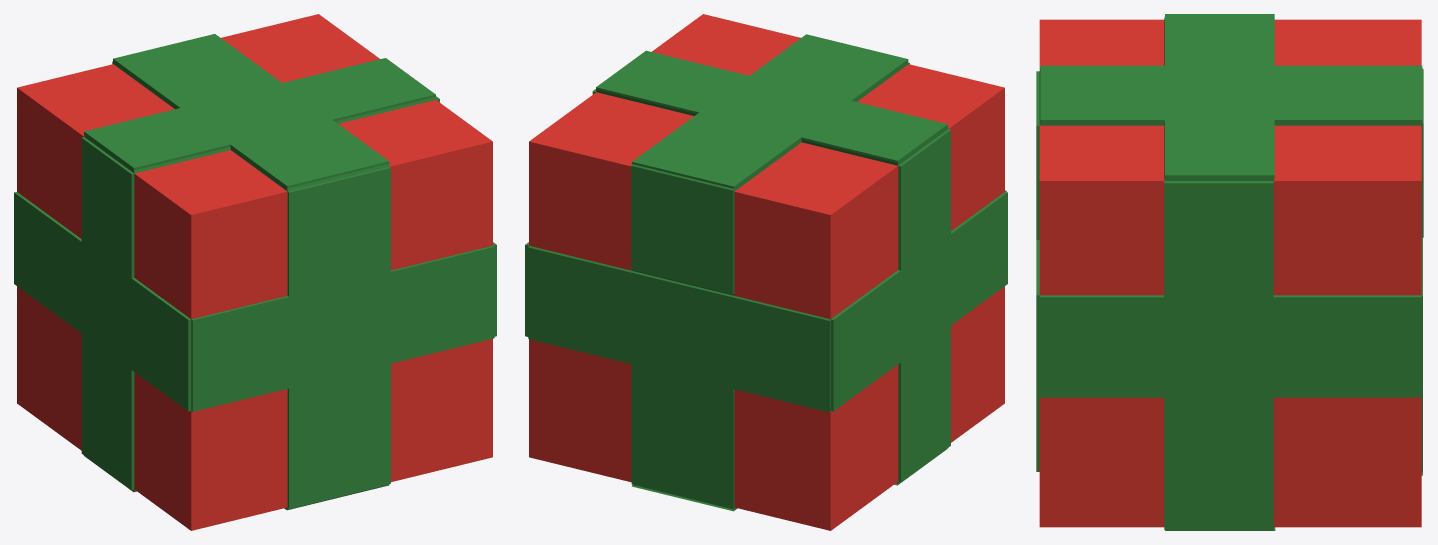
The model's file is GreenGift2COL.fbx.
3 views of the same model, side by side, from view 1: azimuth 30°, elevation 25°; view 2: azimuth 150°, elevation 25°; view 3: azimuth 270°, elevation 25° (orthographic). The views are drawn at different scales.
Parts seen in each view (by area): view 1: Cube.004, Cube.003; view 2: Cube.004, Cube.003; view 3: Cube.004, Cube.003.
Part boxes in pixels (x1=…): Cube.004: x1=14, y1=34, x2=496, y2=510; Cube.003: x1=17, y1=14, x2=492, y2=530; Cube.004: x1=525, y1=34, x2=1007, y2=511; Cube.003: x1=529, y1=14, x2=1004, y2=530; Cube.004: x1=1036, y1=14, x2=1423, y2=530; Cube.003: x1=1039, y1=19, x2=1421, y2=527.
Size of the model in its own units: 110 by 110 by 109.
